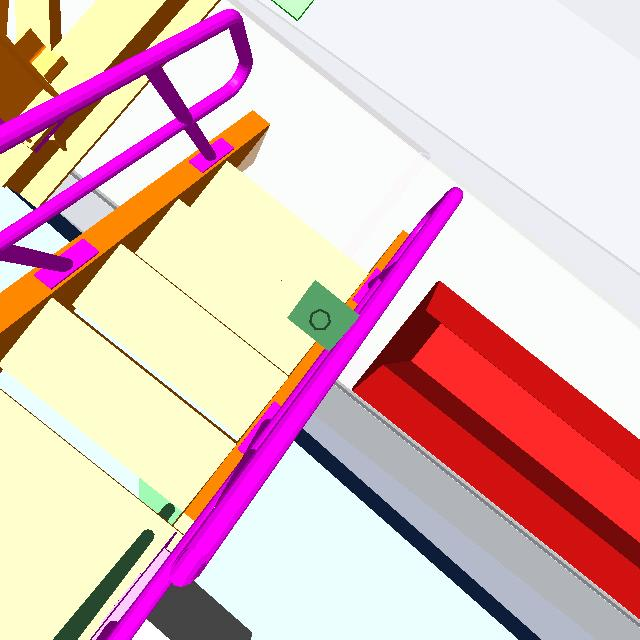Poste: (308, 303, 335, 338)
